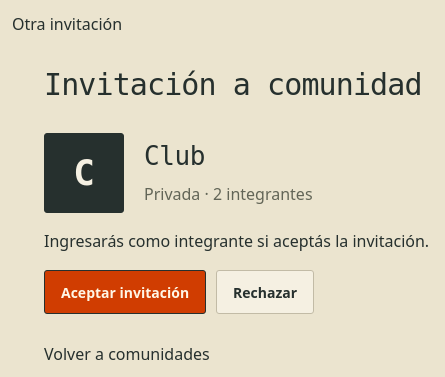
Scenario: rechazar vuelve al listado sin crear una membresía
Click the button "Rechazar": (265, 292) [216,270,314,314]
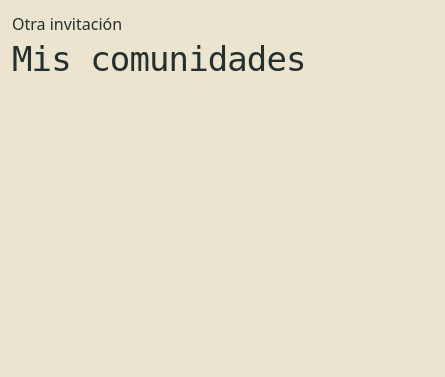
Now the heading "Mis comunidades" is shown, box [12,39,306,79]
